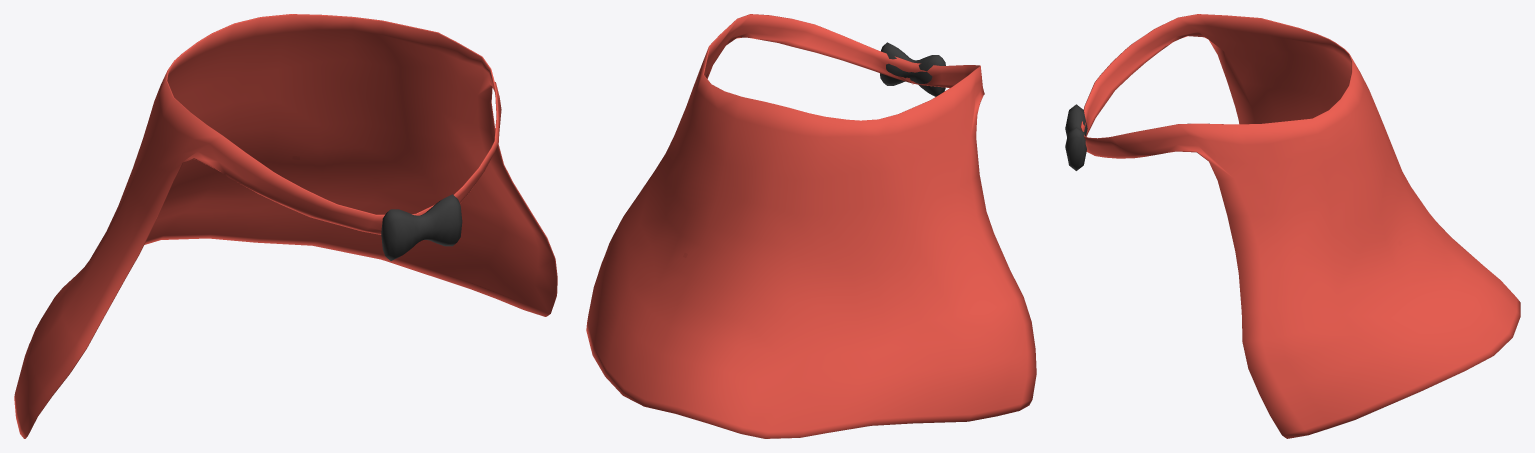
Rendered from cape.fbx.
3 views of the same model, side by side, from view 1: azimuth 30°, elevation 25°; view 2: azimuth 150°, elevation 25°; view 3: azimuth 270°, elevation 25° (orthographic). The views are drawn at different scales.
Visible parts, largest first — view 1: Cube.011; view 2: Cube.011; view 3: Cube.011.
Part boxes in pixels (x1,y1,x2,y2): Cube.011: (14, 14, 557, 438); Cube.011: (586, 14, 1036, 438); Cube.011: (1065, 14, 1520, 438).
Bounding box in the file's own units: 298 × 180 × 275.
